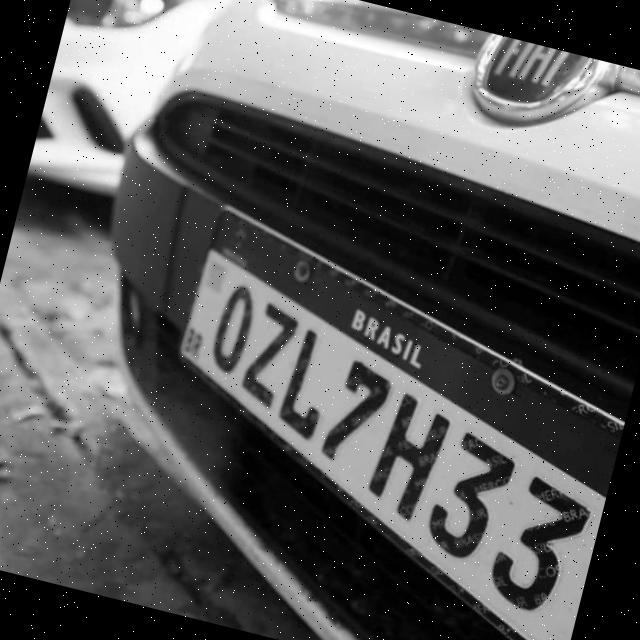placa_mercosul: (176, 207, 623, 640)
